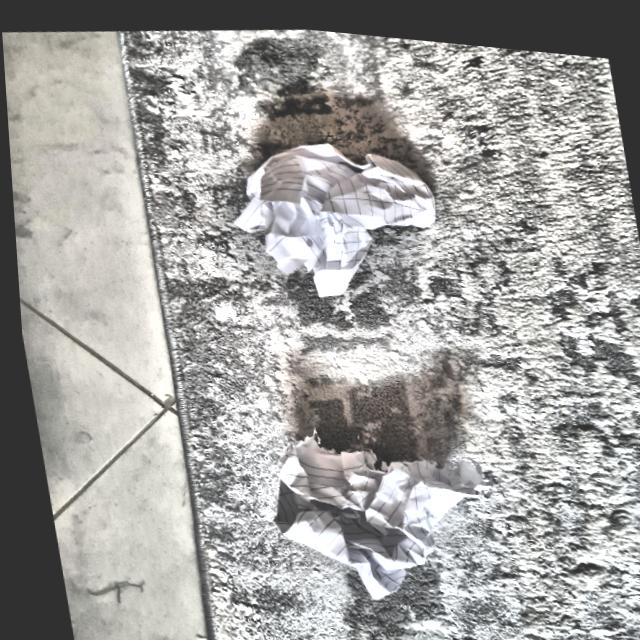Paper: (250, 407, 473, 606), (228, 117, 445, 297)
